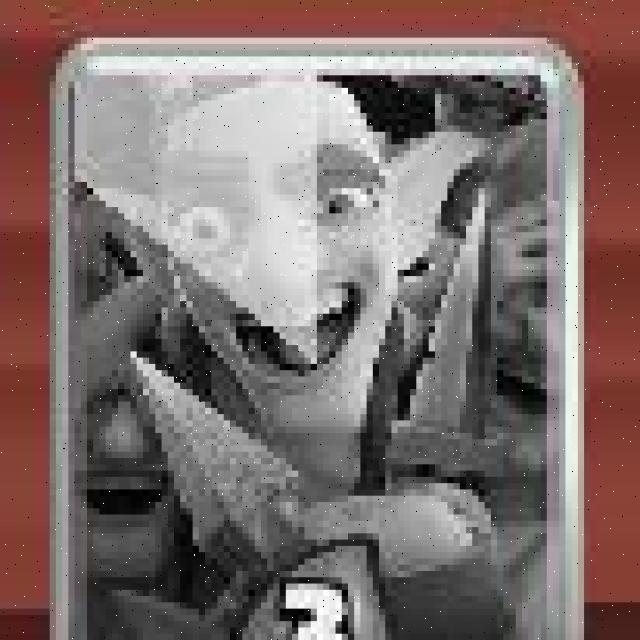Goblin_Gang: (49, 31, 587, 640)
